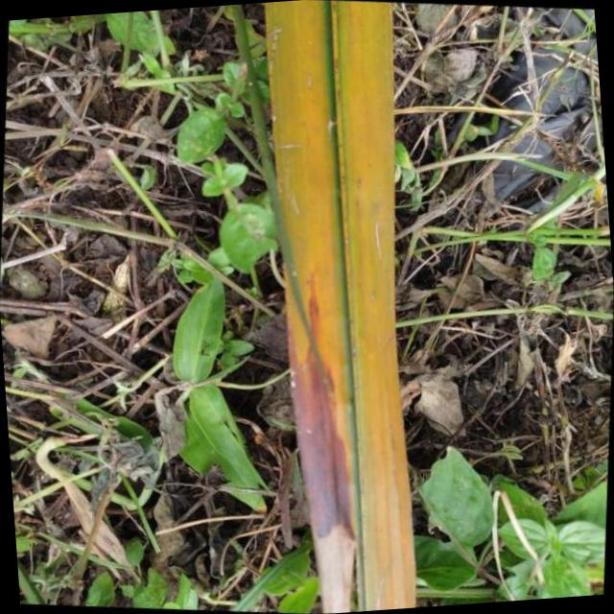Megnesium: (262, 0, 418, 614)
